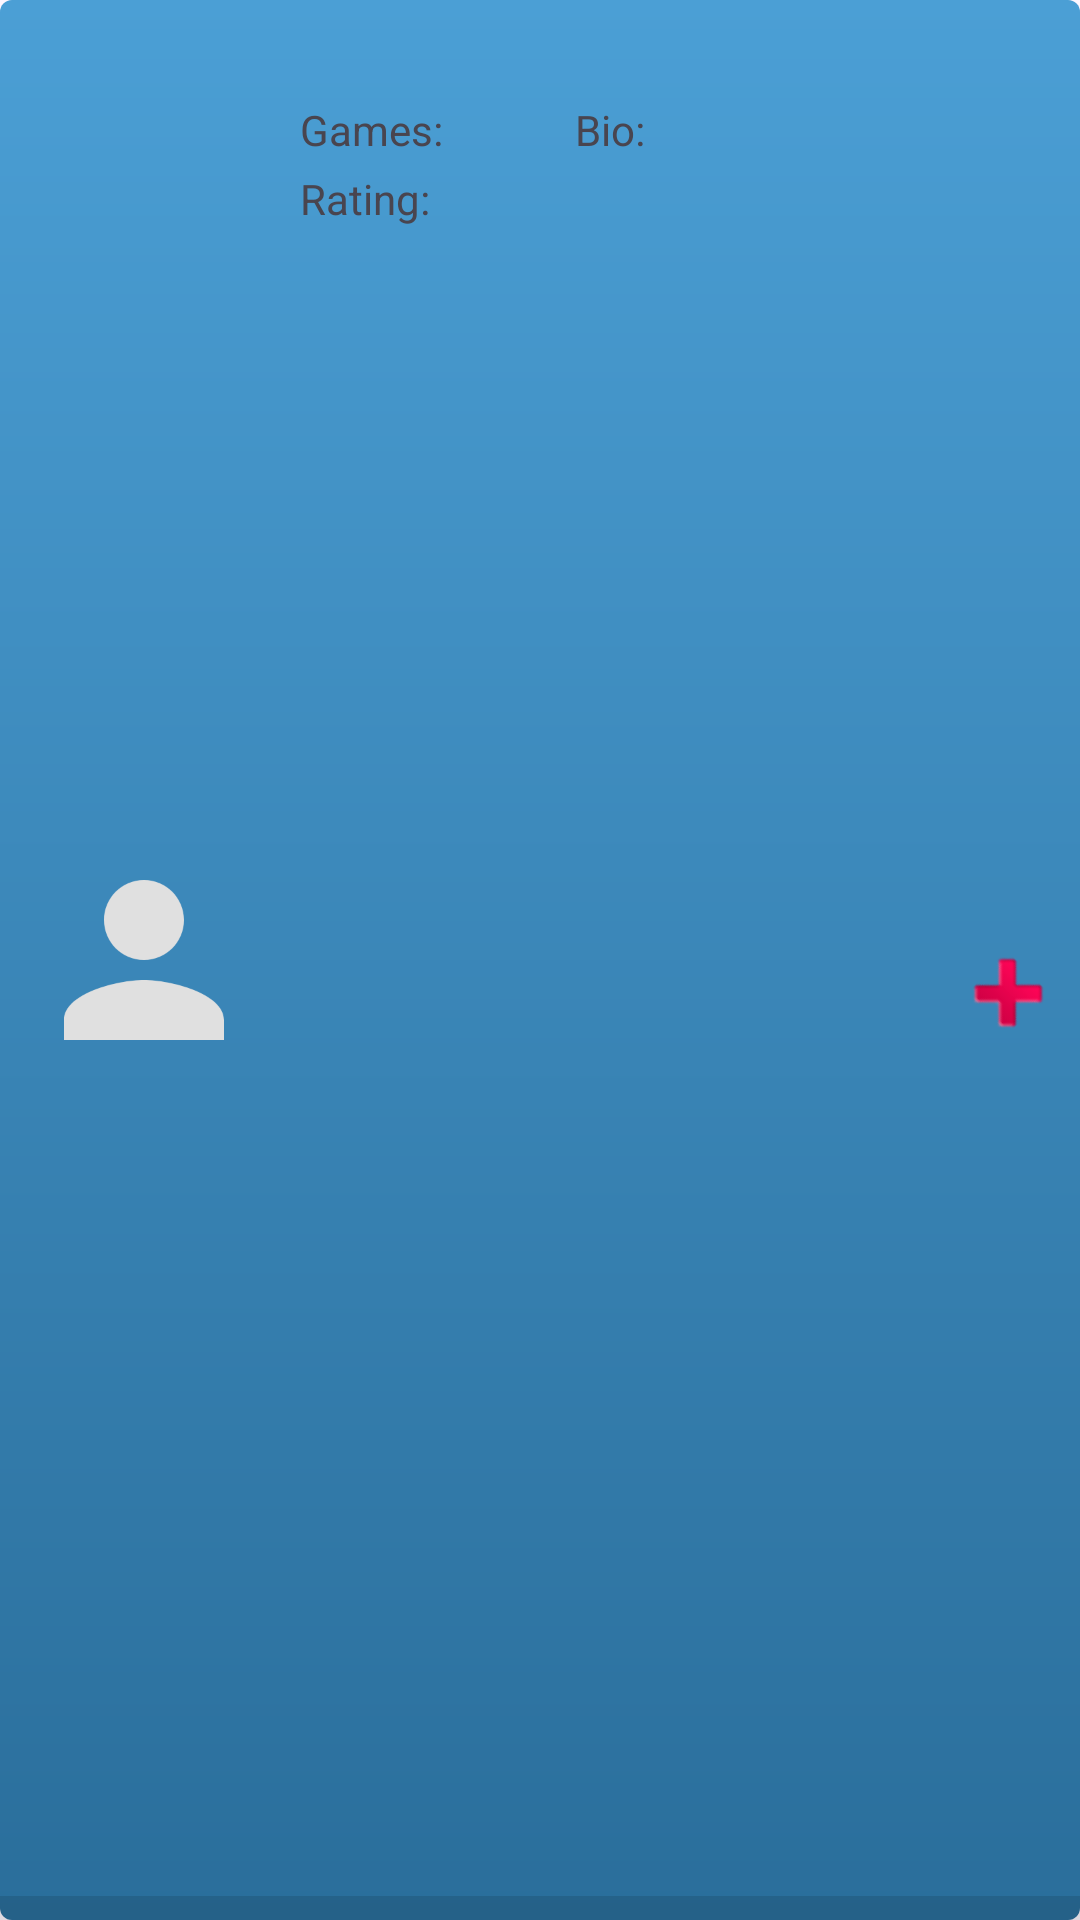

Screen size 1080px×1920px. Icon name, then its box in pixels as bbox=(x1, y1, x2, y2):
add: bbox=(973, 958, 1043, 1028)
